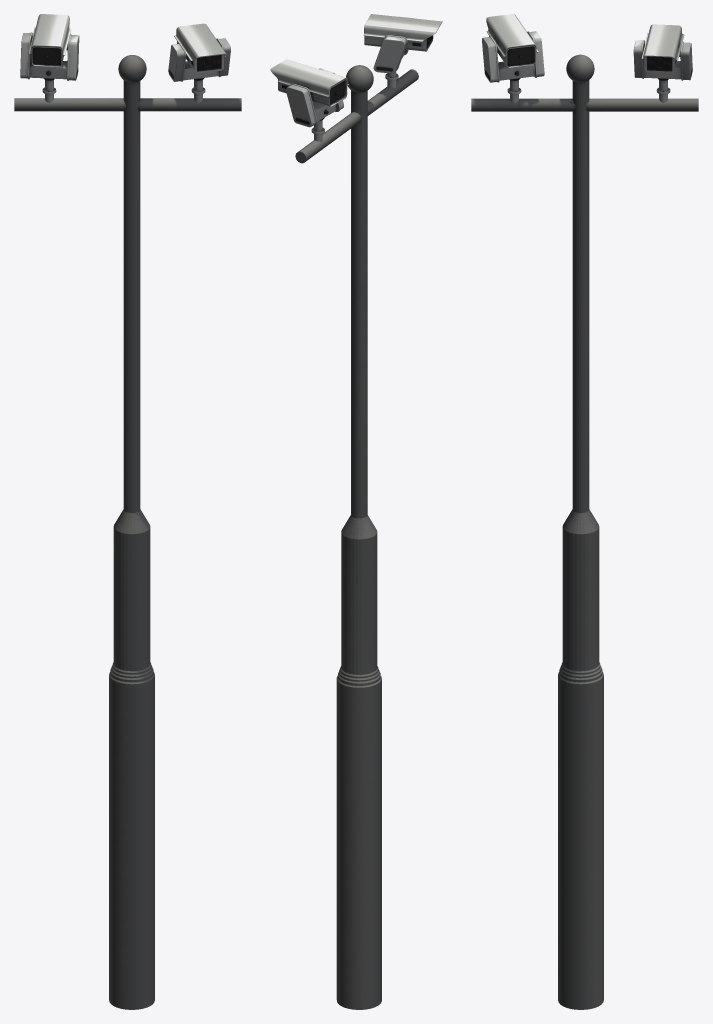
The model's file is camera.obj.
The picture shows the model from 3 angles, left to right: view 1: azimuth 90°, elevation 25°; view 2: azimuth 150°, elevation 25°; view 3: azimuth 270°, elevation 25°; orthographic projection.
Parts seen in each view (by area): view 1: sxt; view 2: sxt; view 3: sxt.
Part boxes in pixels (left/top/right/bottom): sxt: left=14, top=14, right=241, bottom=1009; sxt: left=270, top=14, right=442, bottom=1009; sxt: left=471, top=14, right=698, bottom=1009.
Bounding box in the file's own units: 4.29 × 45 × 9.61.
